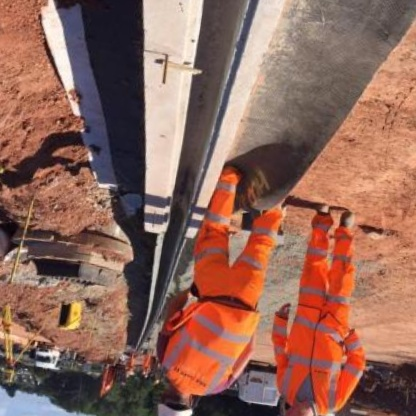vest: (256, 298, 377, 416), (145, 291, 266, 405)
white: (144, 398, 198, 416), (266, 414, 315, 416)
